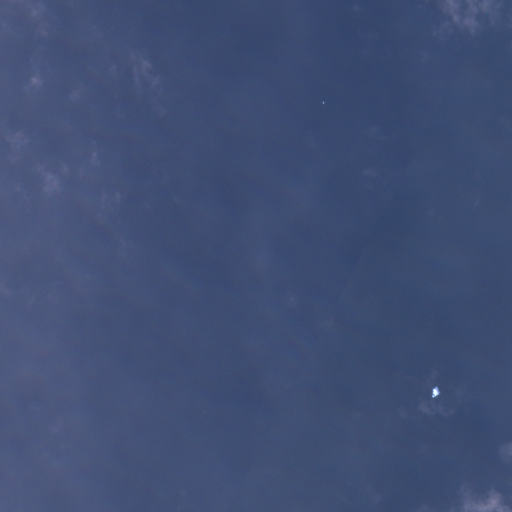Iceberg: (432, 386, 439, 397), (322, 101, 324, 103)
